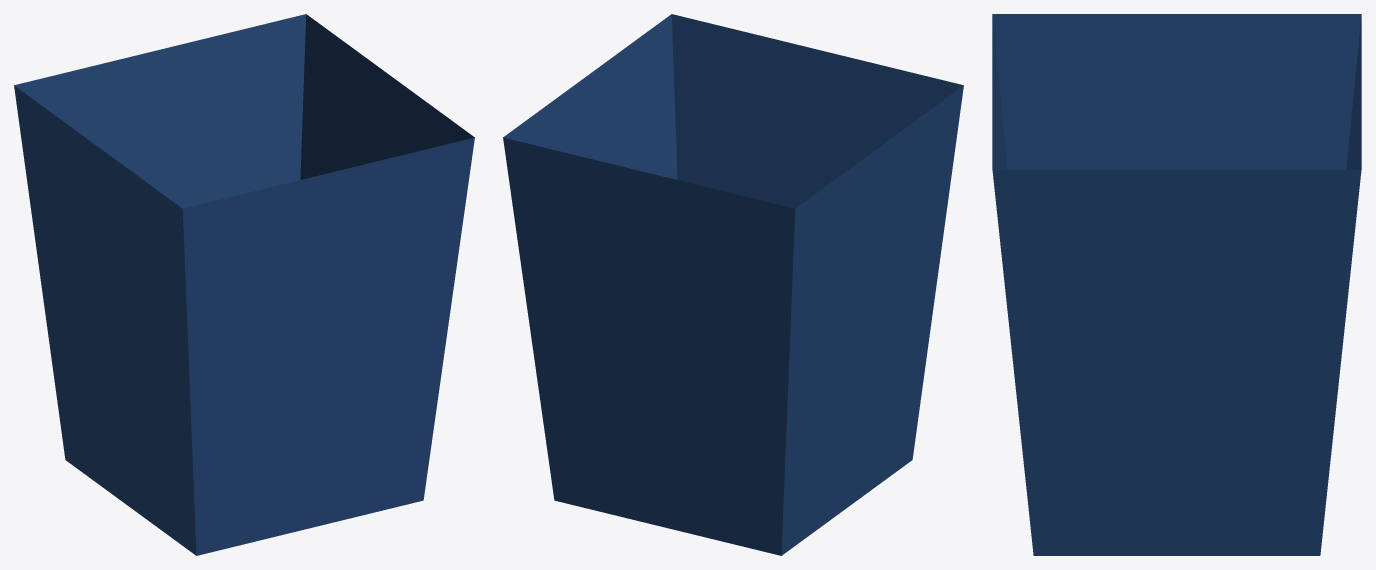
The model's file is basura_4.fbx.
The picture shows the model from 3 angles, left to right: view 1: azimuth 30°, elevation 25°; view 2: azimuth 150°, elevation 25°; view 3: azimuth 270°, elevation 25°; orthographic projection. The views are drawn at different scales.
Visible parts, largest first — view 1: basura3; view 2: basura3; view 3: basura3.
Part boxes in pixels (x1,y1,x2,y2): basura3: (14, 14, 474, 555); basura3: (503, 14, 963, 555); basura3: (992, 14, 1361, 555).
Size of the model in its own units: 308 by 372 by 308.
